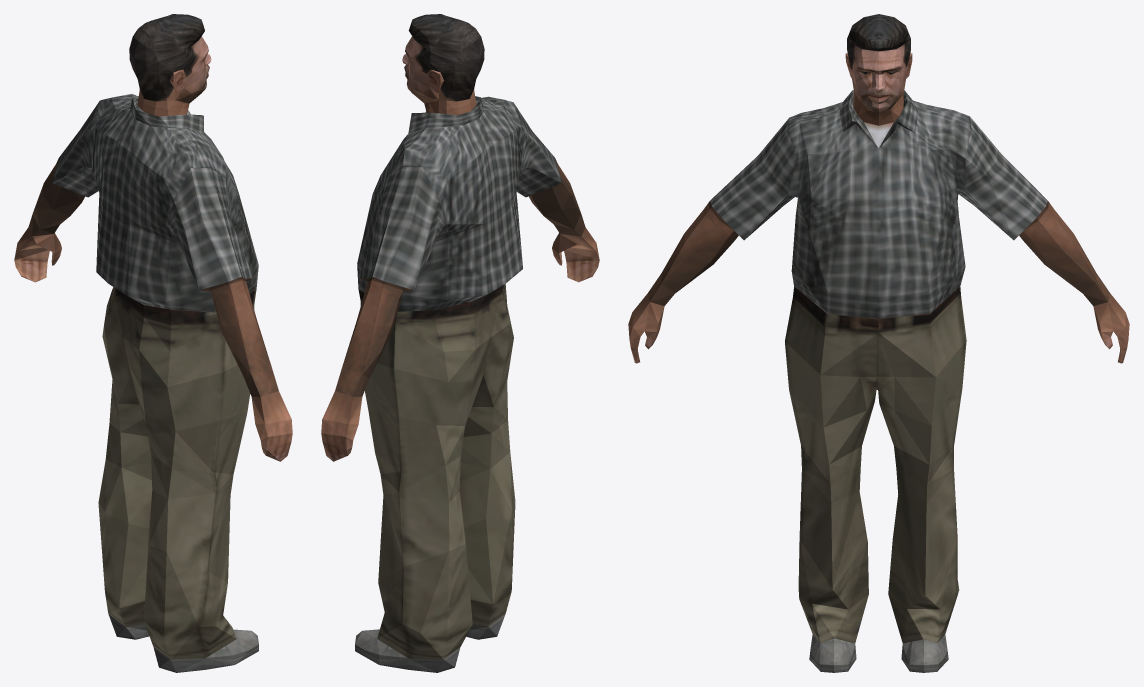
File: heck1.obj
3 views of the same model, side by side, from view 1: azimuth 30°, elevation 25°; view 2: azimuth 150°, elevation 25°; view 3: azimuth 270°, elevation 25° (orthographic).
Parts seen in each view (by area): view 1: _Pelvis; view 2: _Pelvis; view 3: _Pelvis.
Part boxes in pixels (x1,y1,x2,y2): _Pelvis: (14, 14, 292, 672); _Pelvis: (321, 14, 599, 672); _Pelvis: (628, 14, 1129, 672).
Bounding box in the file's own units: 0.4143 × 1.86 × 1.35.
1 material, 1 textured.
